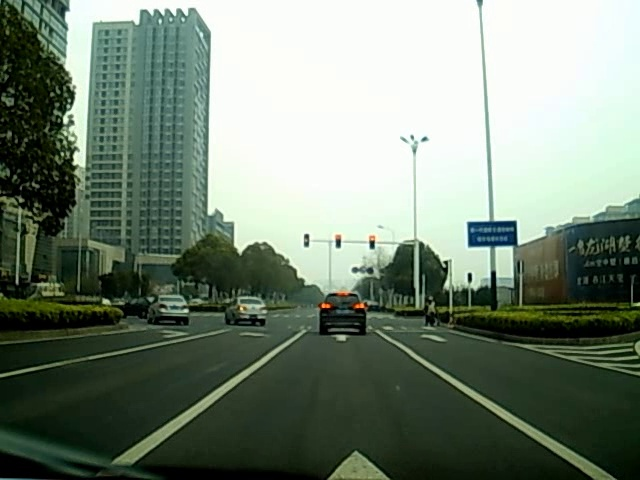Traffic_Light_stop: (369, 235, 376, 249), (335, 234, 341, 250)
